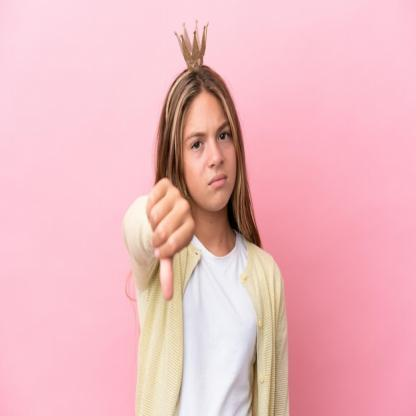thumb_down: (144, 178, 198, 310)
